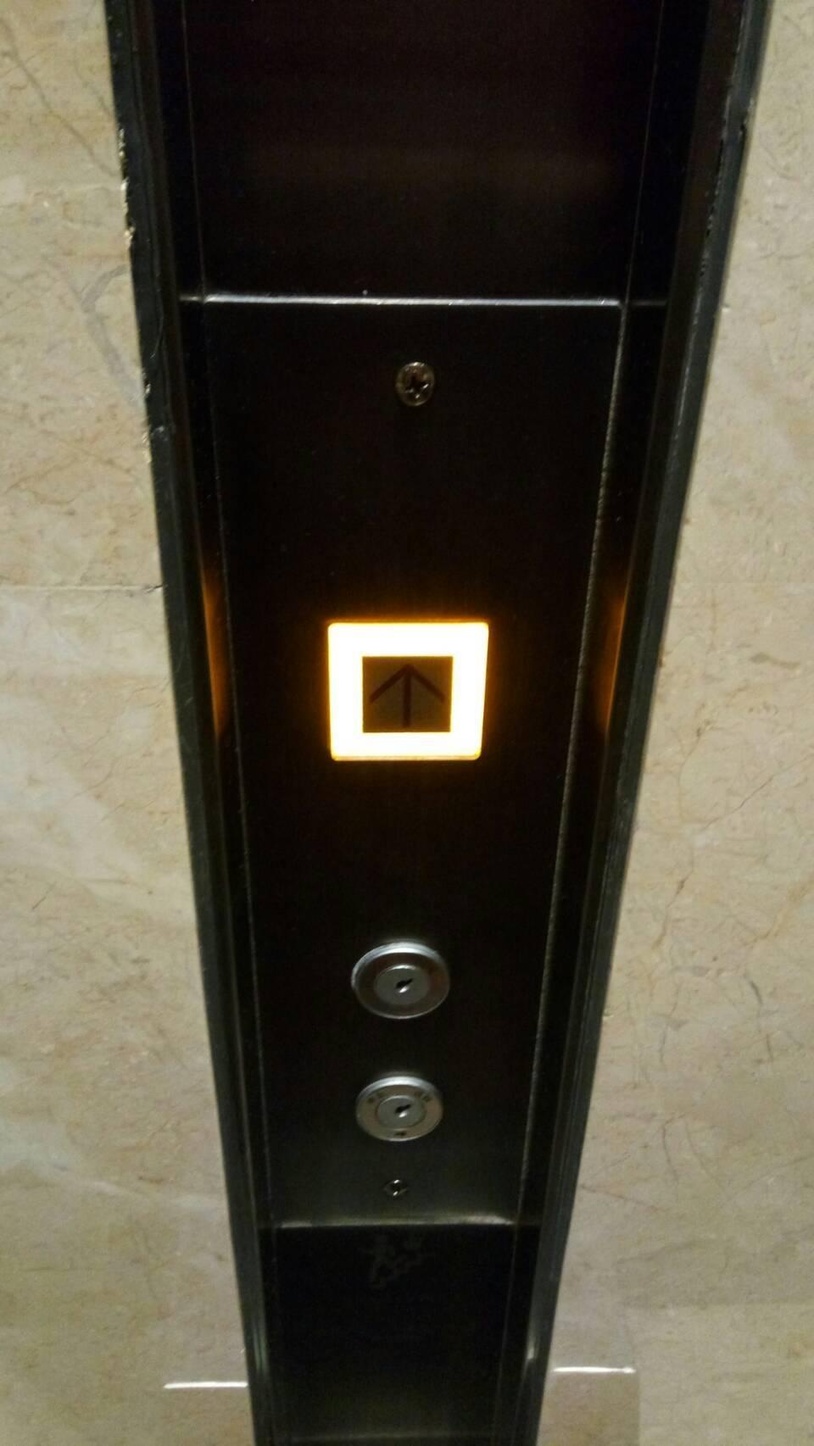keyhole: (347, 938, 451, 1021), (349, 1068, 446, 1145)
up: (315, 613, 488, 770)
